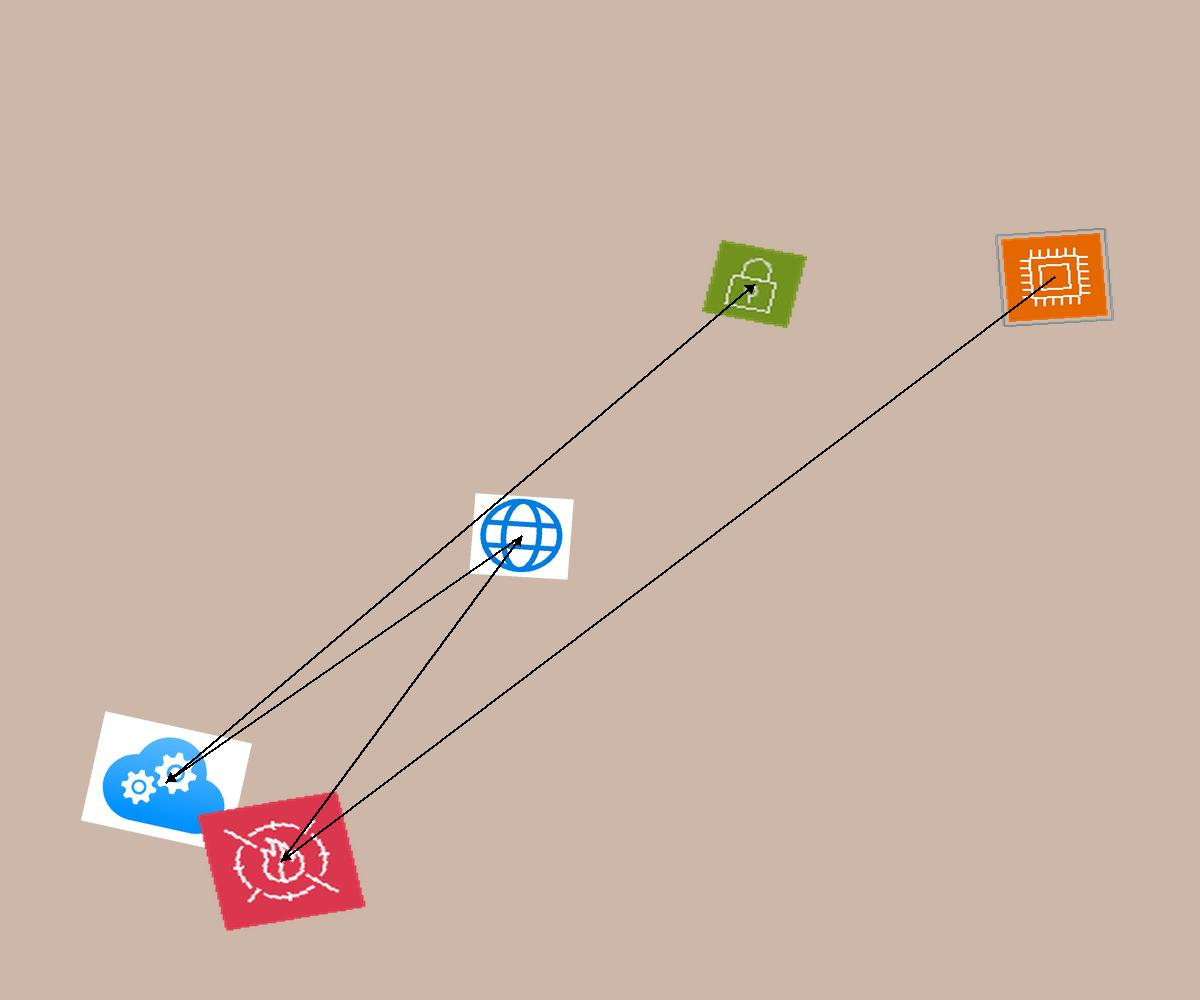AWS-Category_Compute: (994, 227, 1115, 328)
AWS-Public-subnet: (702, 240, 807, 328)
AWS-WAF: (196, 790, 367, 932)
Azure_cloud_services: (81, 711, 252, 853)
Azure_http: (469, 493, 574, 580)
